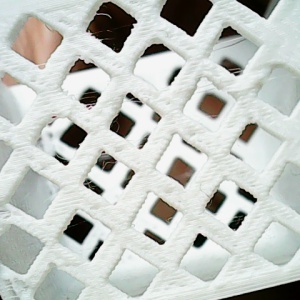3dpstringing: (84, 156, 117, 188), (47, 148, 79, 172), (32, 56, 53, 75), (218, 64, 248, 76), (194, 82, 221, 95), (118, 98, 147, 109), (161, 217, 185, 229), (89, 12, 118, 21), (80, 99, 101, 111)
3dpunderextrusion: (5, 278, 34, 299), (39, 259, 64, 276)
